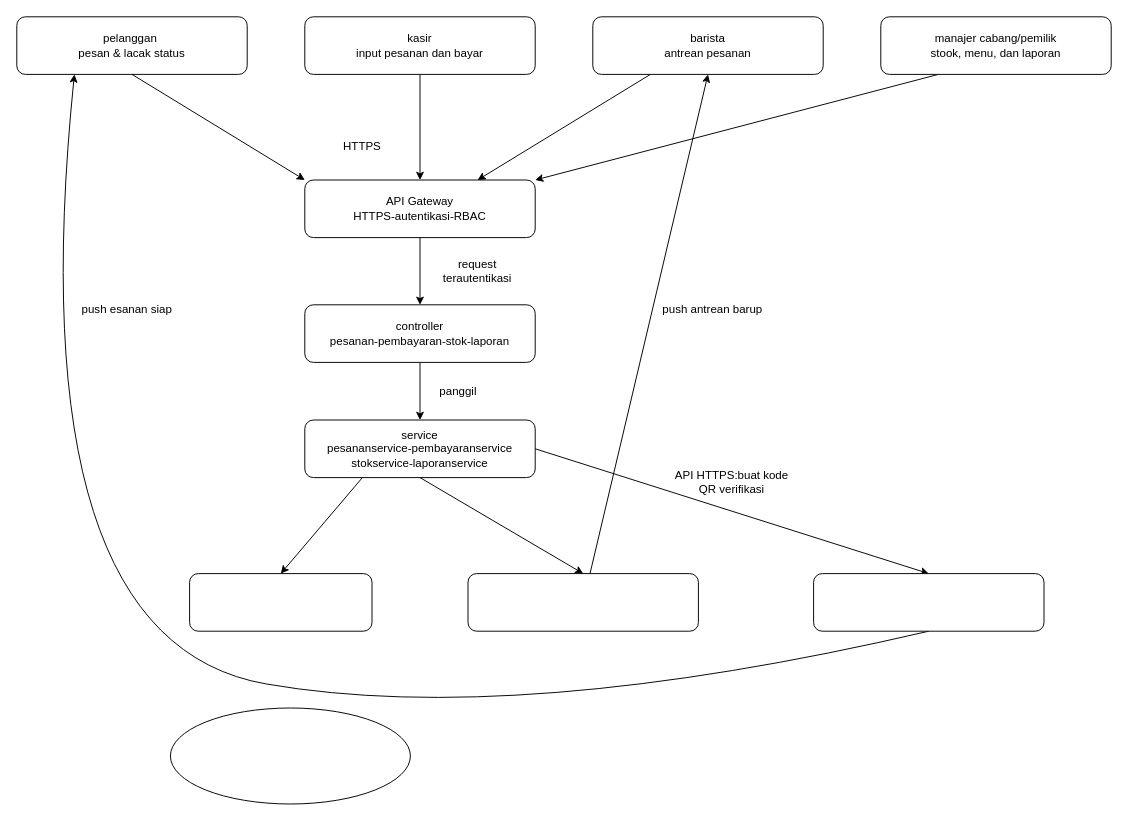
This 1128x821 diagram has some shape labels left out. Each missing label, with the centre of its shape:
database mysql 11 label: transaksi ACID backup harian: the point at 289,755
layaan pembayaran QRIS (simulasi/sandbox): the point at 928,602
pemancar real-time wecsocket/polling 5 de: the point at 582,602
repository akses data: the point at 280,602
